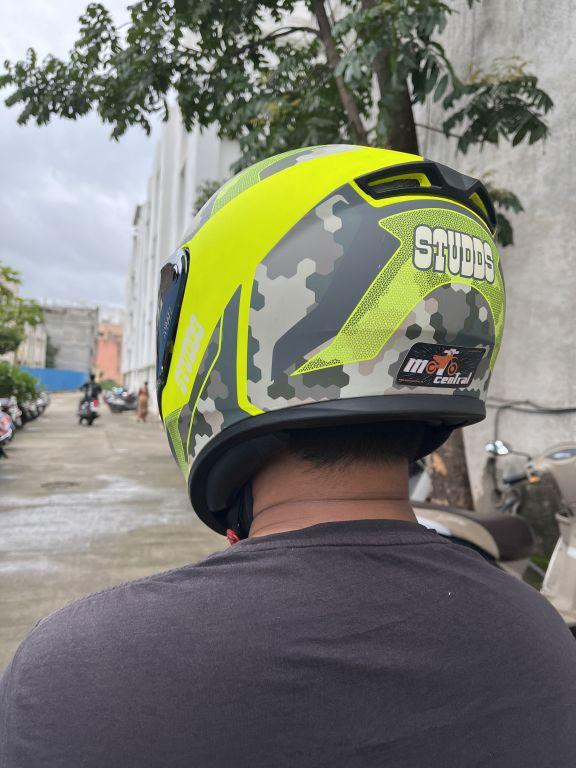helmet: (139, 134, 516, 527)
